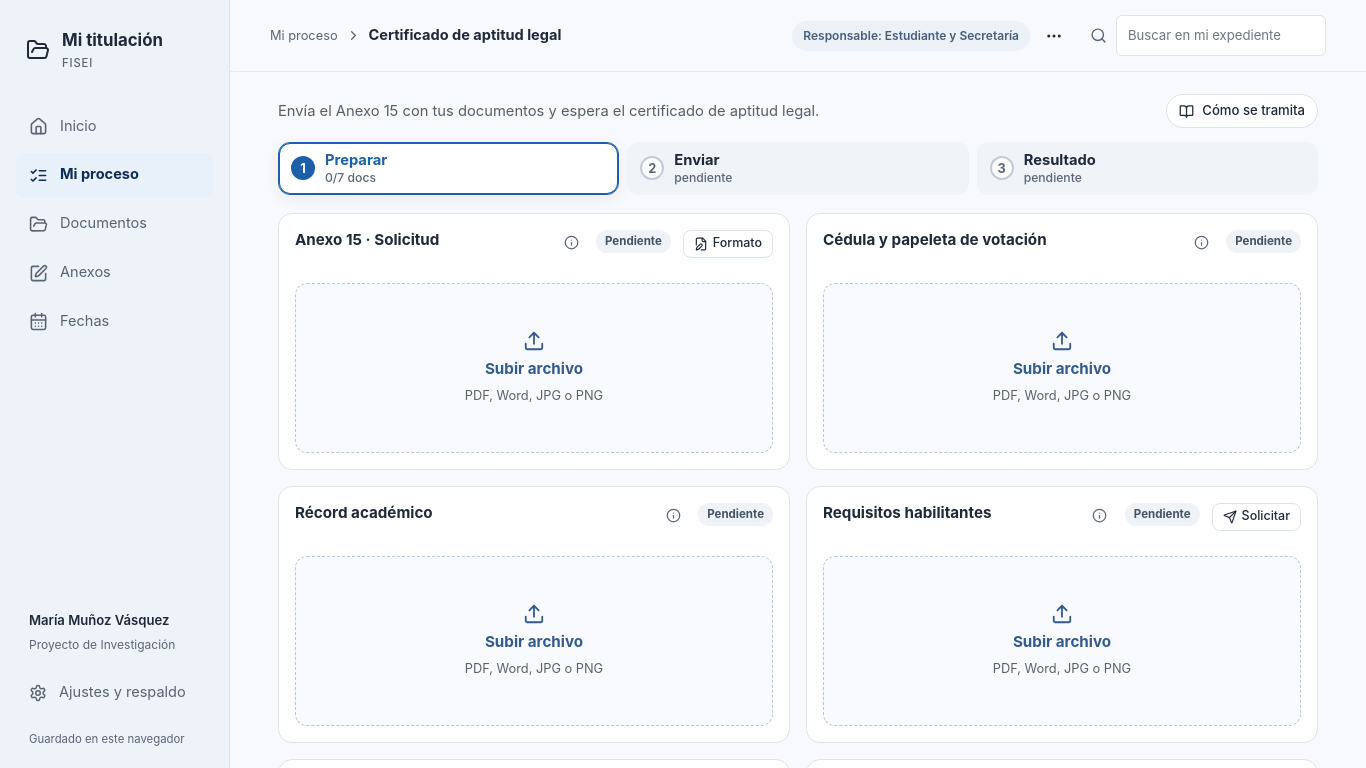
Test case: fills the Anexo 15 addressed to the dean with the student modality
Check: the button "Cómo se tramita" is shown, box 1166,94 -> 1318,128
Step 1. Click the button "Formato" → (728, 244), box 683,230 -> 773,258
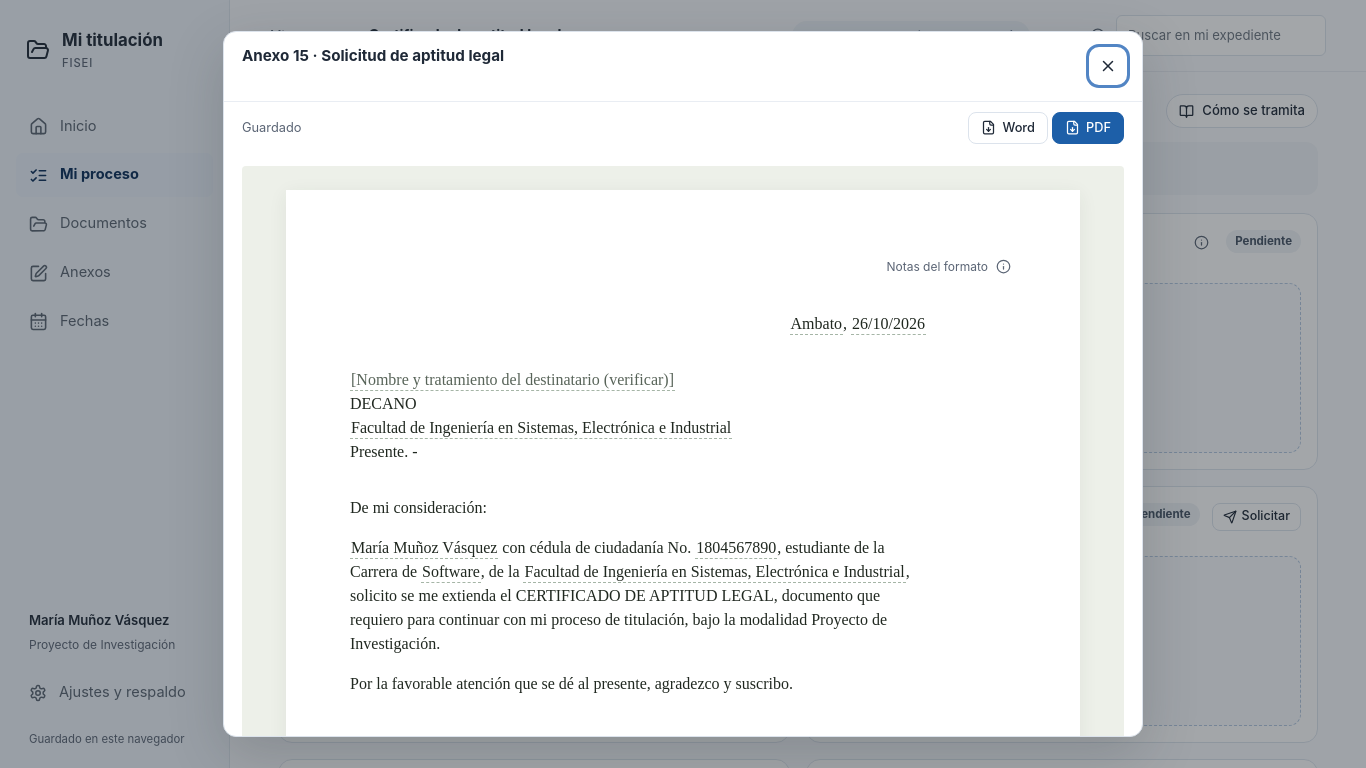
Check: the text "DECANO" is shown, box 350,395 -> 417,412
Check: the text "Proyecto de Investigación" is shown, box 350,563 -> 914,652
